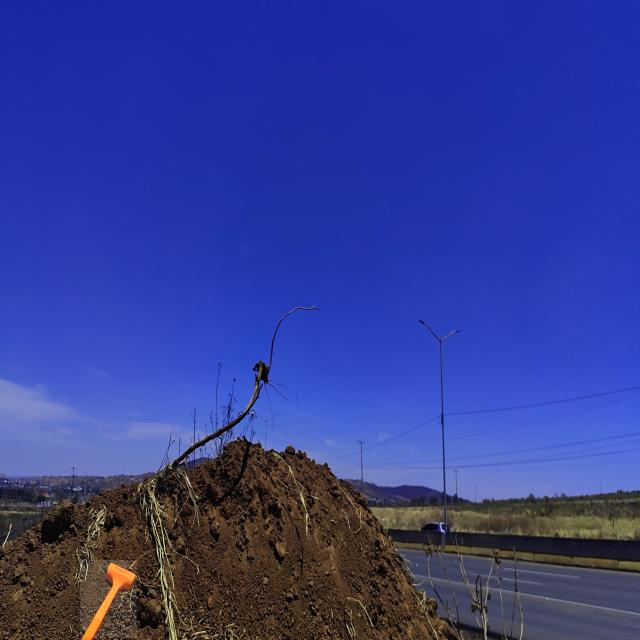Orange_hammer: (80, 560, 137, 638)
